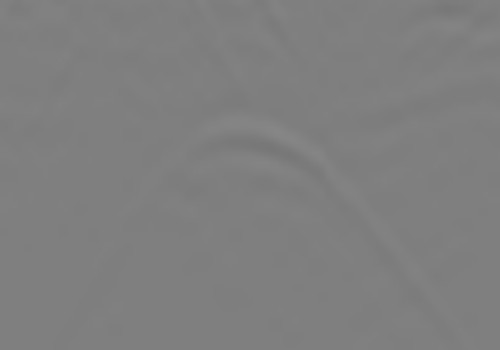hyperbola: (88, 101, 405, 264)
